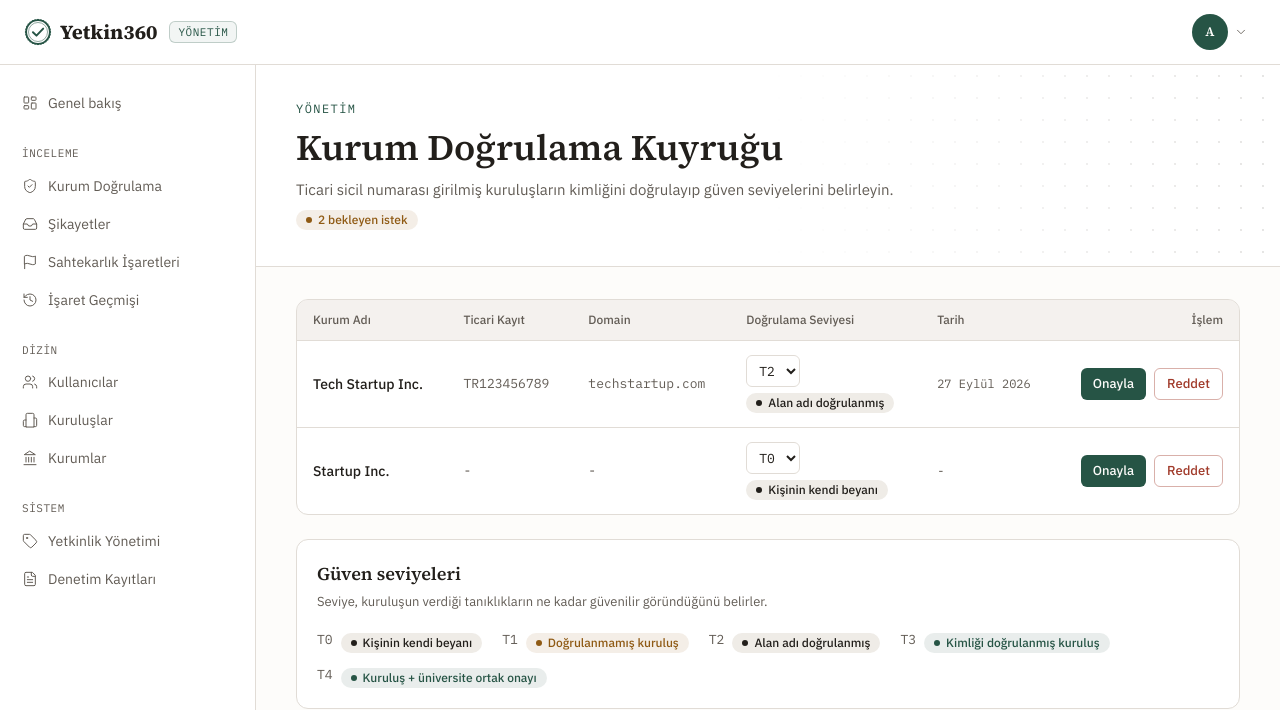
Scenario: DogrulamaKuyruguPage (/admin/dogrulama-kuyrugu) › YET-198: Reddet 409 — 'artık kuyrukta değil' uyarısı, satır listede kalır
Expected: the text "Tech Startup Inc." is shown, [313,374,423,394]
What coordinates should you click on to do the following:
click the button with aria-label "Reddet Tech Startup Inc."
I would click on:
 (1189, 384)
Its box is [1154,368,1223,400].
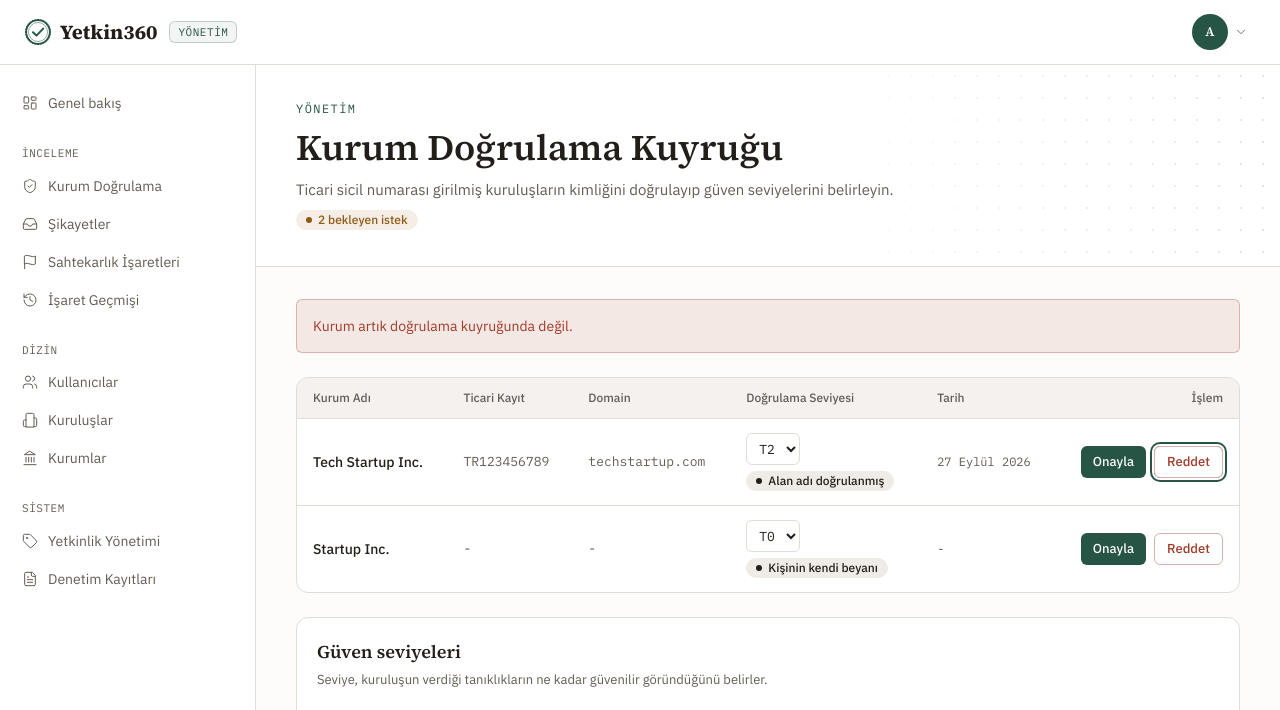
Expected: the text "Tech Startup Inc." is shown, [313,452,423,472]
Expected: the message shows "artık doğrulama kuyruğunda değil", [313,317,573,335]
